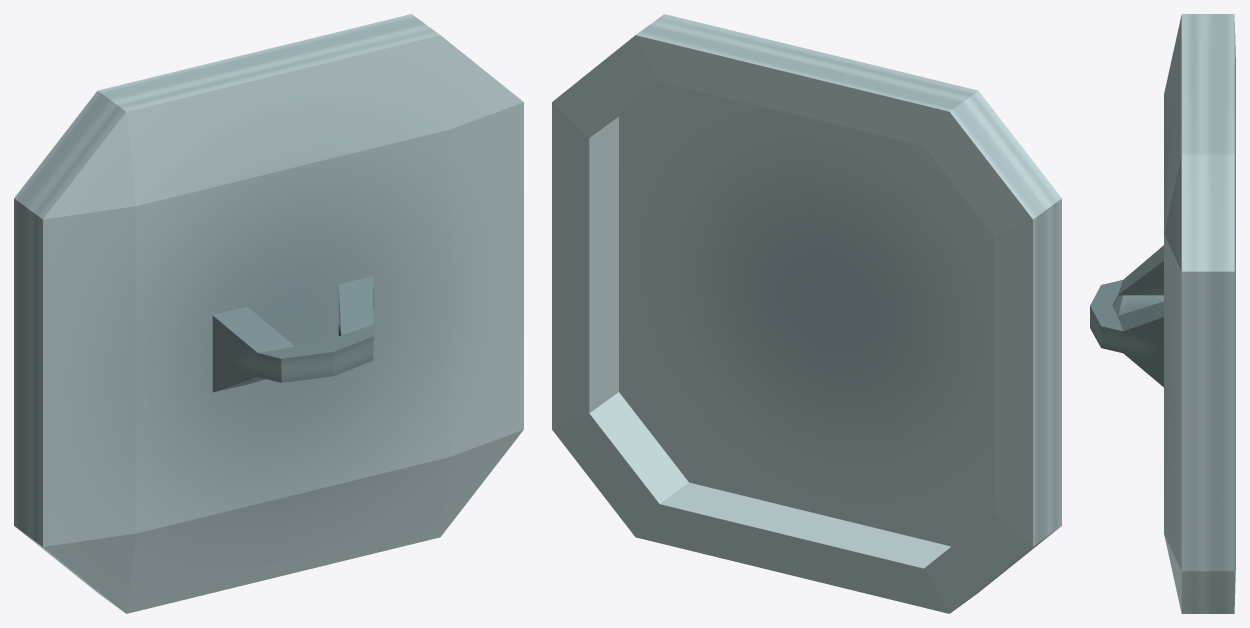
The model's file is lid_new.fbx.
3 views of the same model, side by side, from view 1: azimuth 30°, elevation 25°; view 2: azimuth 150°, elevation 25°; view 3: azimuth 270°, elevation 25° (orthographic). The views are drawn at different scales.
Visible parts, largest first — view 1: pCube7; view 2: pCube7; view 3: pCube7.
Part boxes in pixels (bbox=[...]): pCube7: bbox=[14, 14, 523, 613]; pCube7: bbox=[552, 14, 1061, 613]; pCube7: bbox=[1090, 14, 1235, 613].
Size of the model in its own units: 44.65 by 44.54 by 12.81.
Materials: 1 (1 with a texture image).
